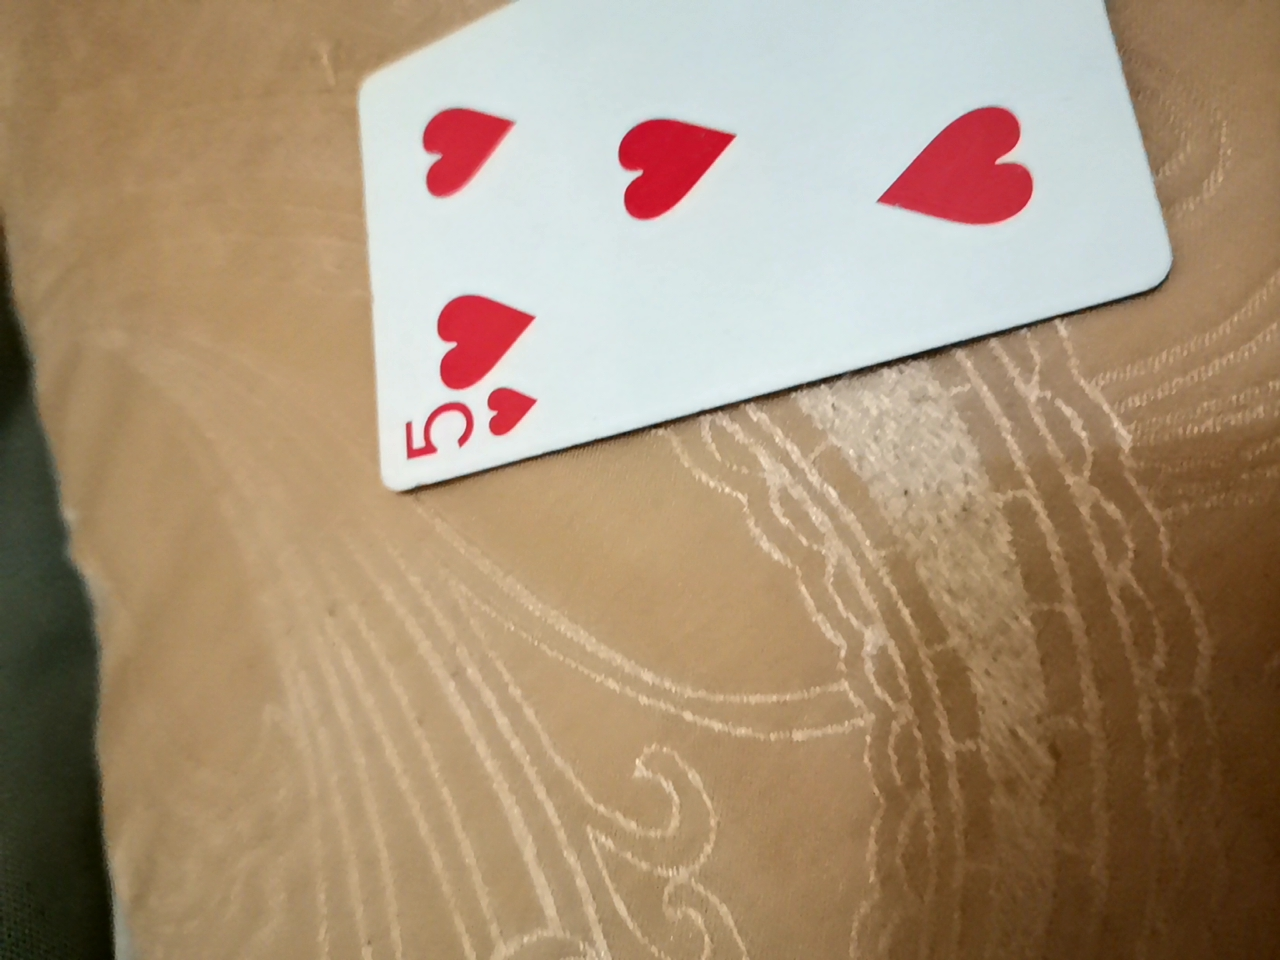hx 5: (358, 0, 1176, 472)
